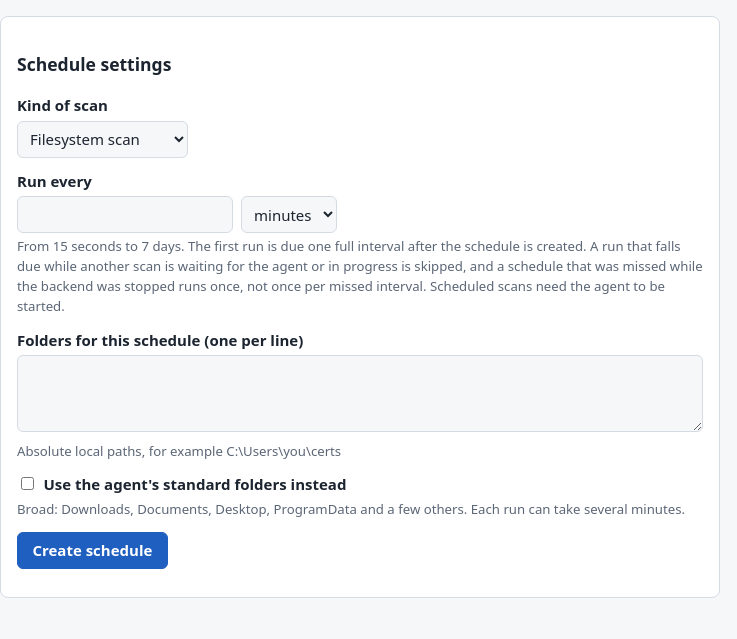
Scenario: the interval › refuses 14 seconds
Type "C:\\certs" into the text box labelled "Folders for this schedule (one per line)".
click(360, 394); type("C:\\certs")  # box [17,355,703,432]
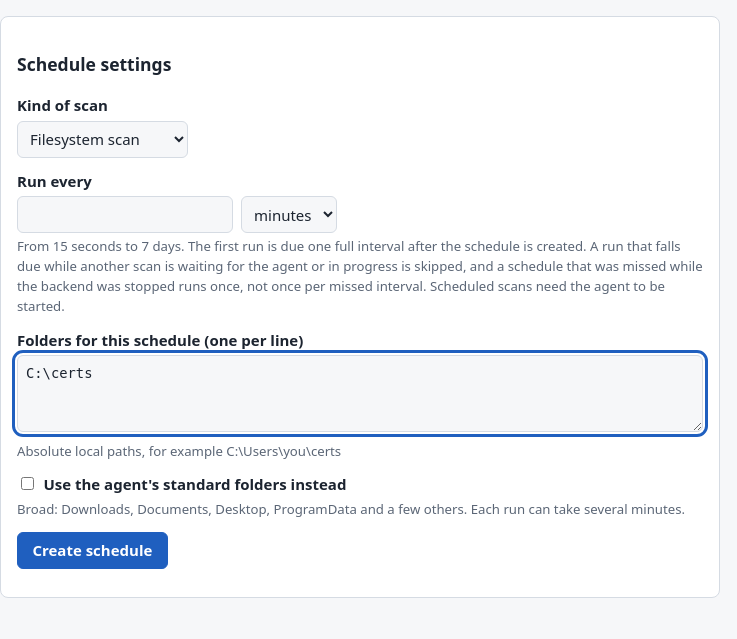
Type "14" into the field labelled "Run every".
click(125, 215); type("14")  # box [17,196,233,234]
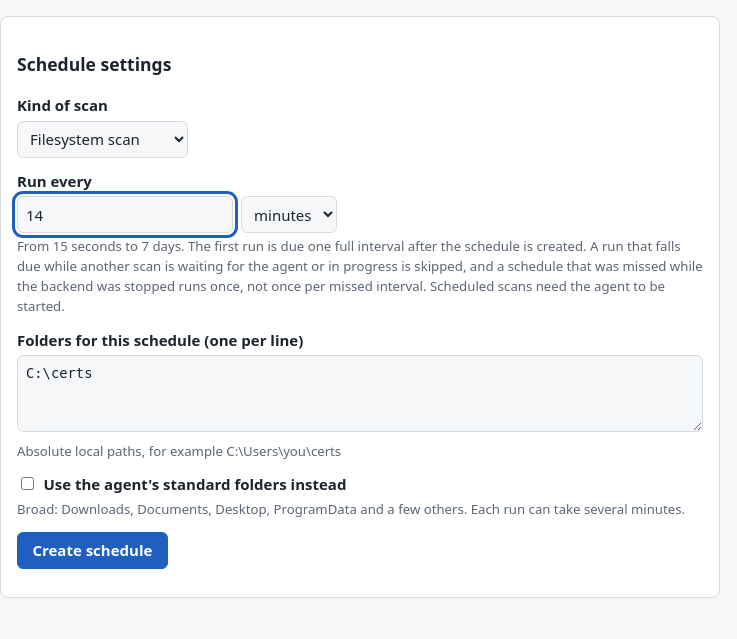
Select "seconds" in the dropdown named "Interval unit" at coordinates (289, 215), box [241,196,337,233]
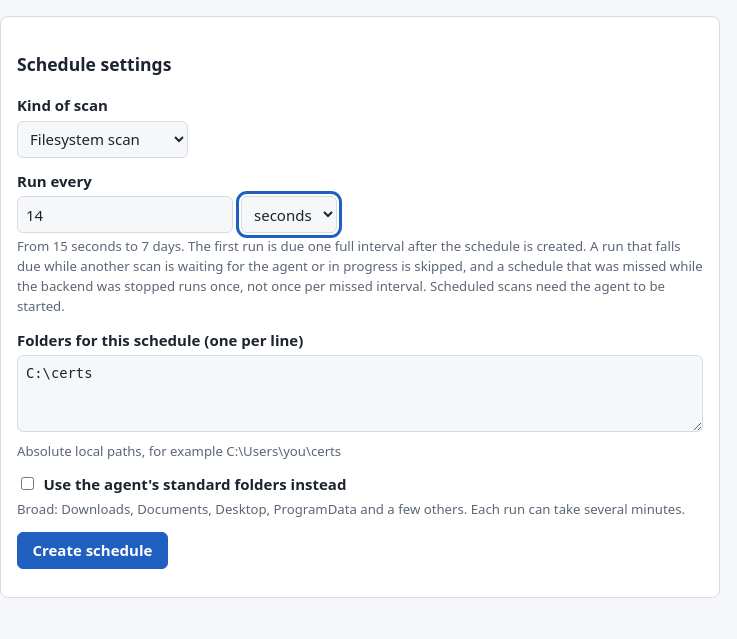
Click the button "Create schedule".
click(92, 550)  # box [17,532,168,569]
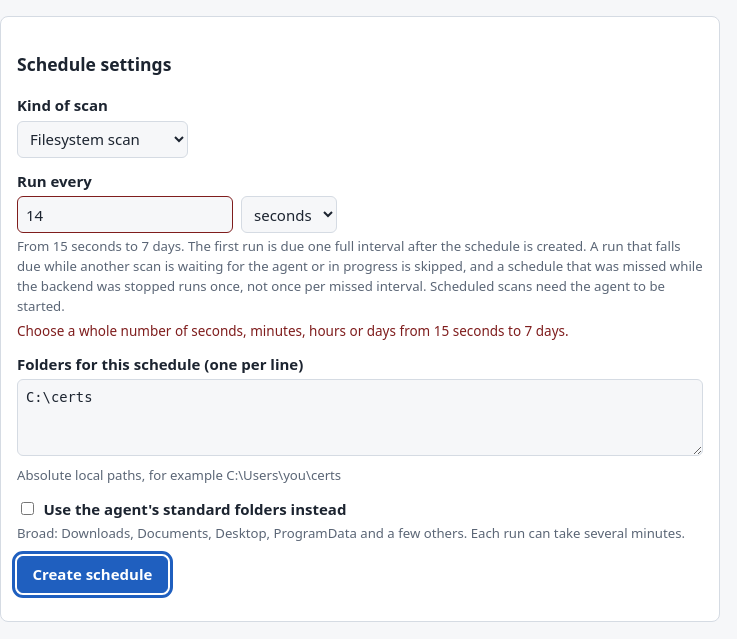
Now the text "from 15 seconds to 7 days" is shown, box [17,322,569,340]
